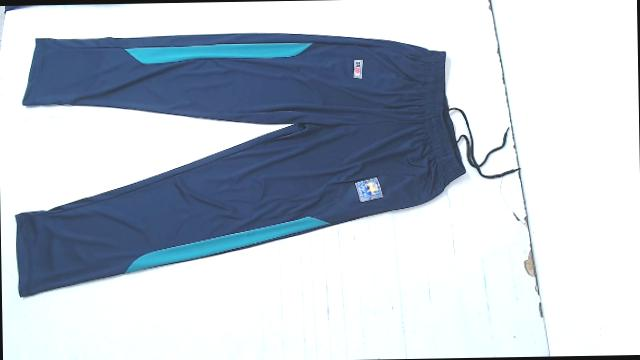new-garment: (16, 33, 465, 296)
